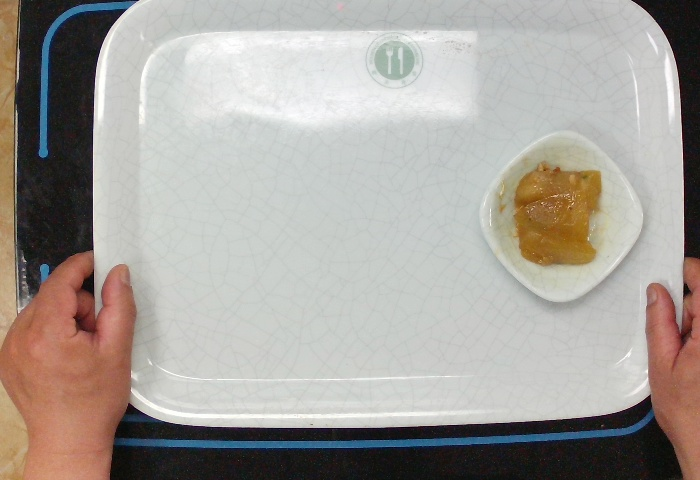JYsf-Si_Fang_Die: (481, 131, 653, 305)
